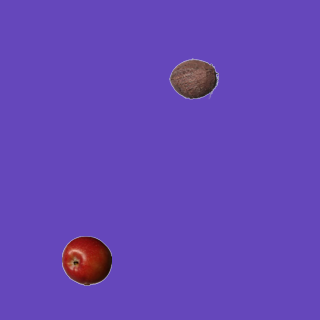Apple Braeburn: (61, 235, 111, 285)
Cocos: (168, 53, 218, 103)
